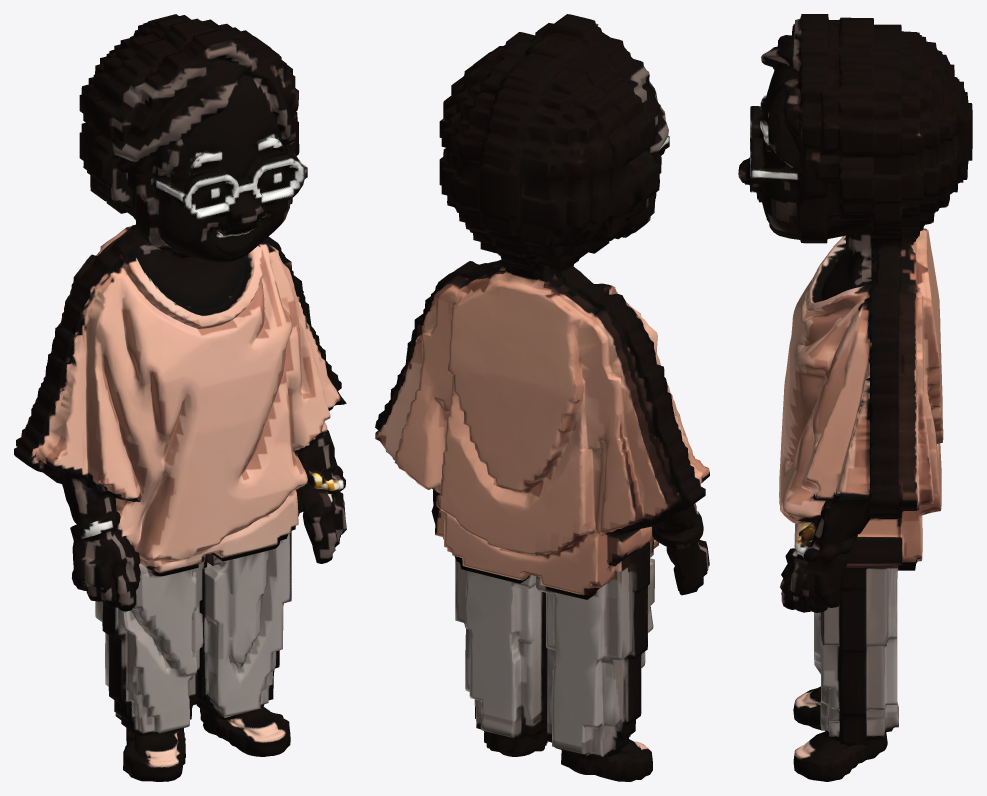
Rendered from grandma.glb.
3 renders of one model, left to right at view 1: azimuth 30°, elevation 25°; view 2: azimuth 150°, elevation 25°; view 3: azimuth 270°, elevation 25°, orthographic.
Visible parts, largest first — view 1: tripo_node_2b89ca57-5488-4f11-bb3e-d568dba41263; view 2: tripo_node_2b89ca57-5488-4f11-bb3e-d568dba41263; view 3: tripo_node_2b89ca57-5488-4f11-bb3e-d568dba41263.
Boxes of the visible parts, left/top/right/bottom form: tripo_node_2b89ca57-5488-4f11-bb3e-d568dba41263: left=14, top=14, right=346, bottom=781; tripo_node_2b89ca57-5488-4f11-bb3e-d568dba41263: left=375, top=14, right=709, bottom=781; tripo_node_2b89ca57-5488-4f11-bb3e-d568dba41263: left=738, top=14, right=972, bottom=781.
Size of the model in its own units: 0.4392 by 0.9784 by 0.2841.
Materials: 1 (1 with a texture image).
